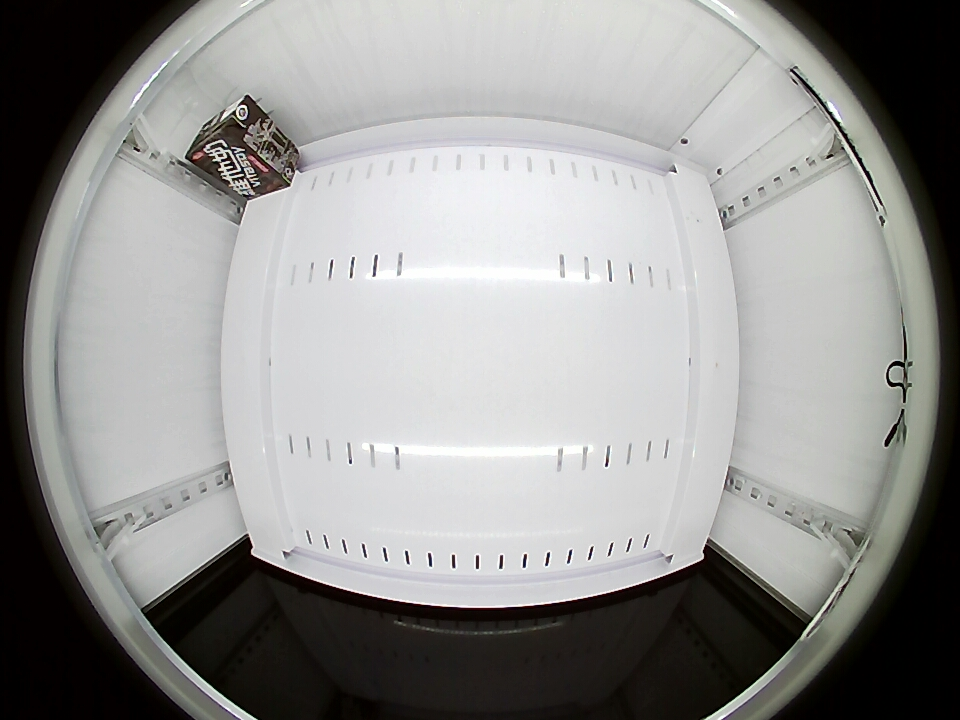weitanai2: (185, 93, 268, 173)
